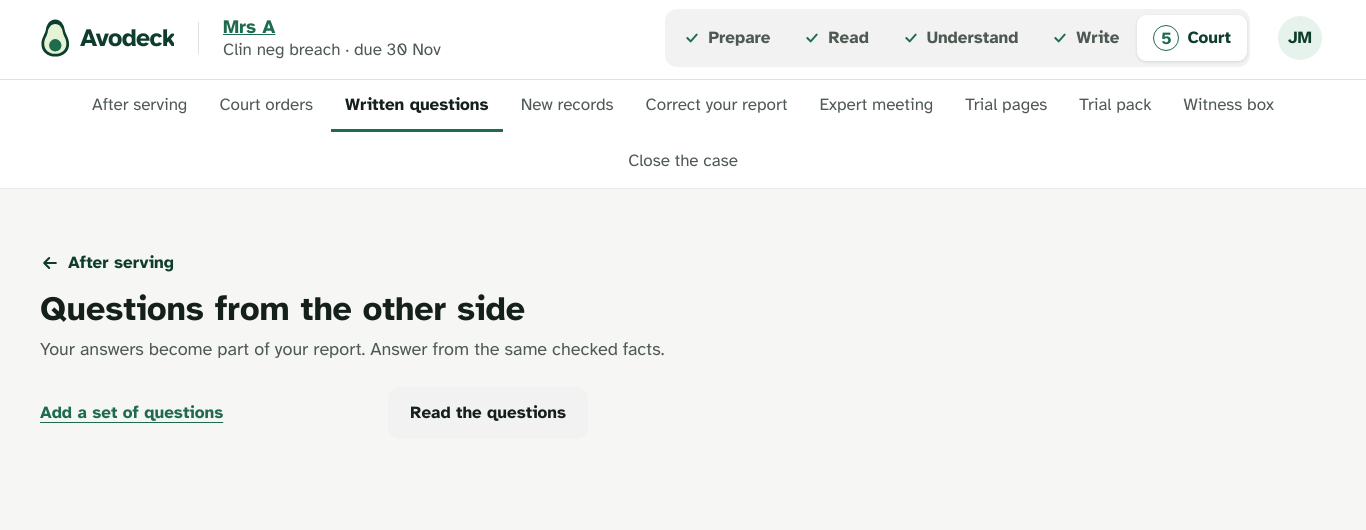
Test: a set that hasn't been read can be imported, which queues the reading
Click the button "Read the questions". click: (488, 413)
box: [388, 387, 588, 439]
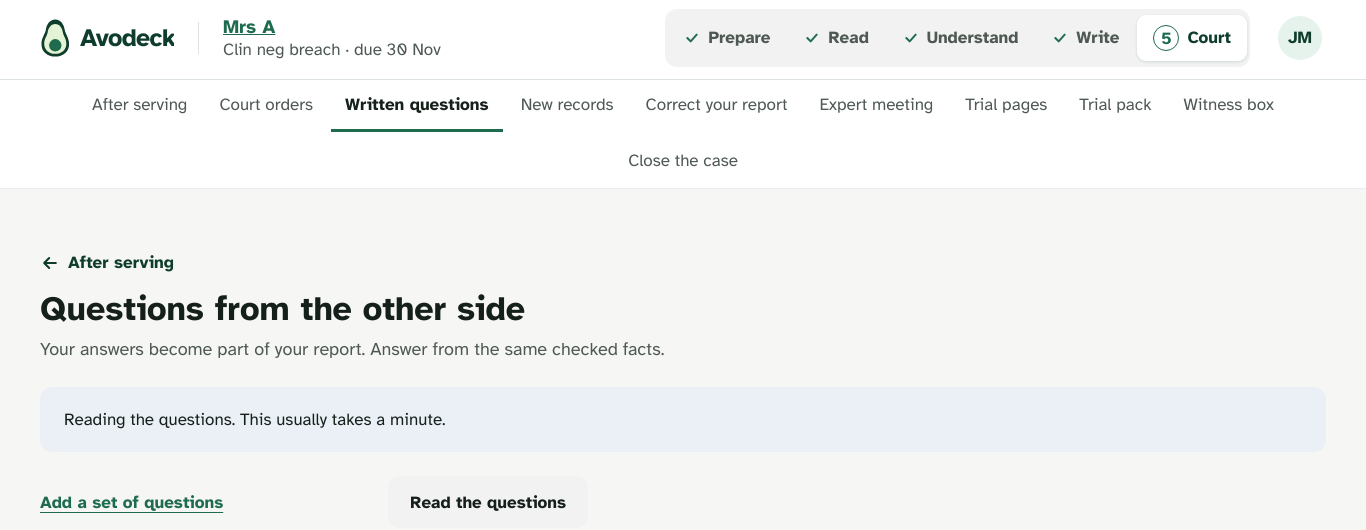
Expected: the text "Reading the questions. This usually takes a minute." is shown, [64, 409, 446, 430]
